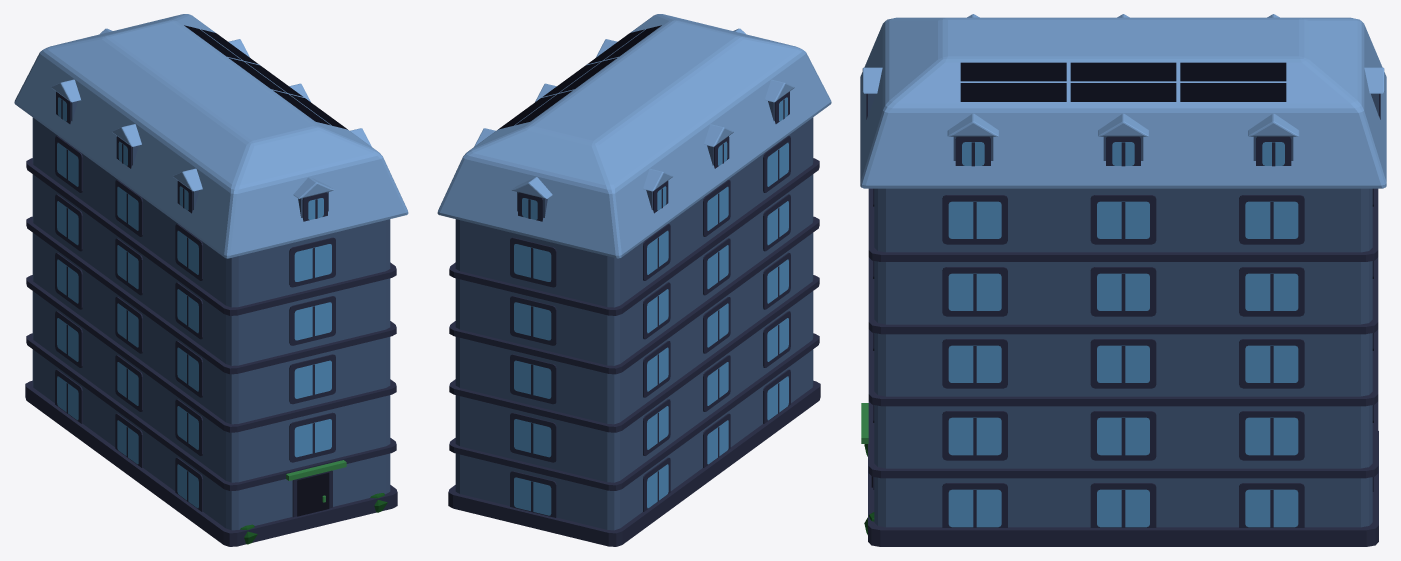
File: house-1x2-5f-mansard-b-solar.glb
The picture shows the model from 3 angles, left to right: view 1: azimuth 30°, elevation 25°; view 2: azimuth 150°, elevation 25°; view 3: azimuth 270°, elevation 25°; orthographic projection. The views are drawn at different scales.
Parts seen in each view (by area): view 1: house-1x2-5f-mansard-b-solar; view 2: house-1x2-5f-mansard-b-solar; view 3: house-1x2-5f-mansard-b-solar.
Part boxes in pixels (bbox=[...]): house-1x2-5f-mansard-b-solar: bbox=[14, 14, 408, 546]; house-1x2-5f-mansard-b-solar: bbox=[437, 14, 831, 546]; house-1x2-5f-mansard-b-solar: bbox=[860, 14, 1386, 546].
Bounding box in the file's own units: 0.9876 × 1.9 × 1.99.
1 material, 1 textured.
